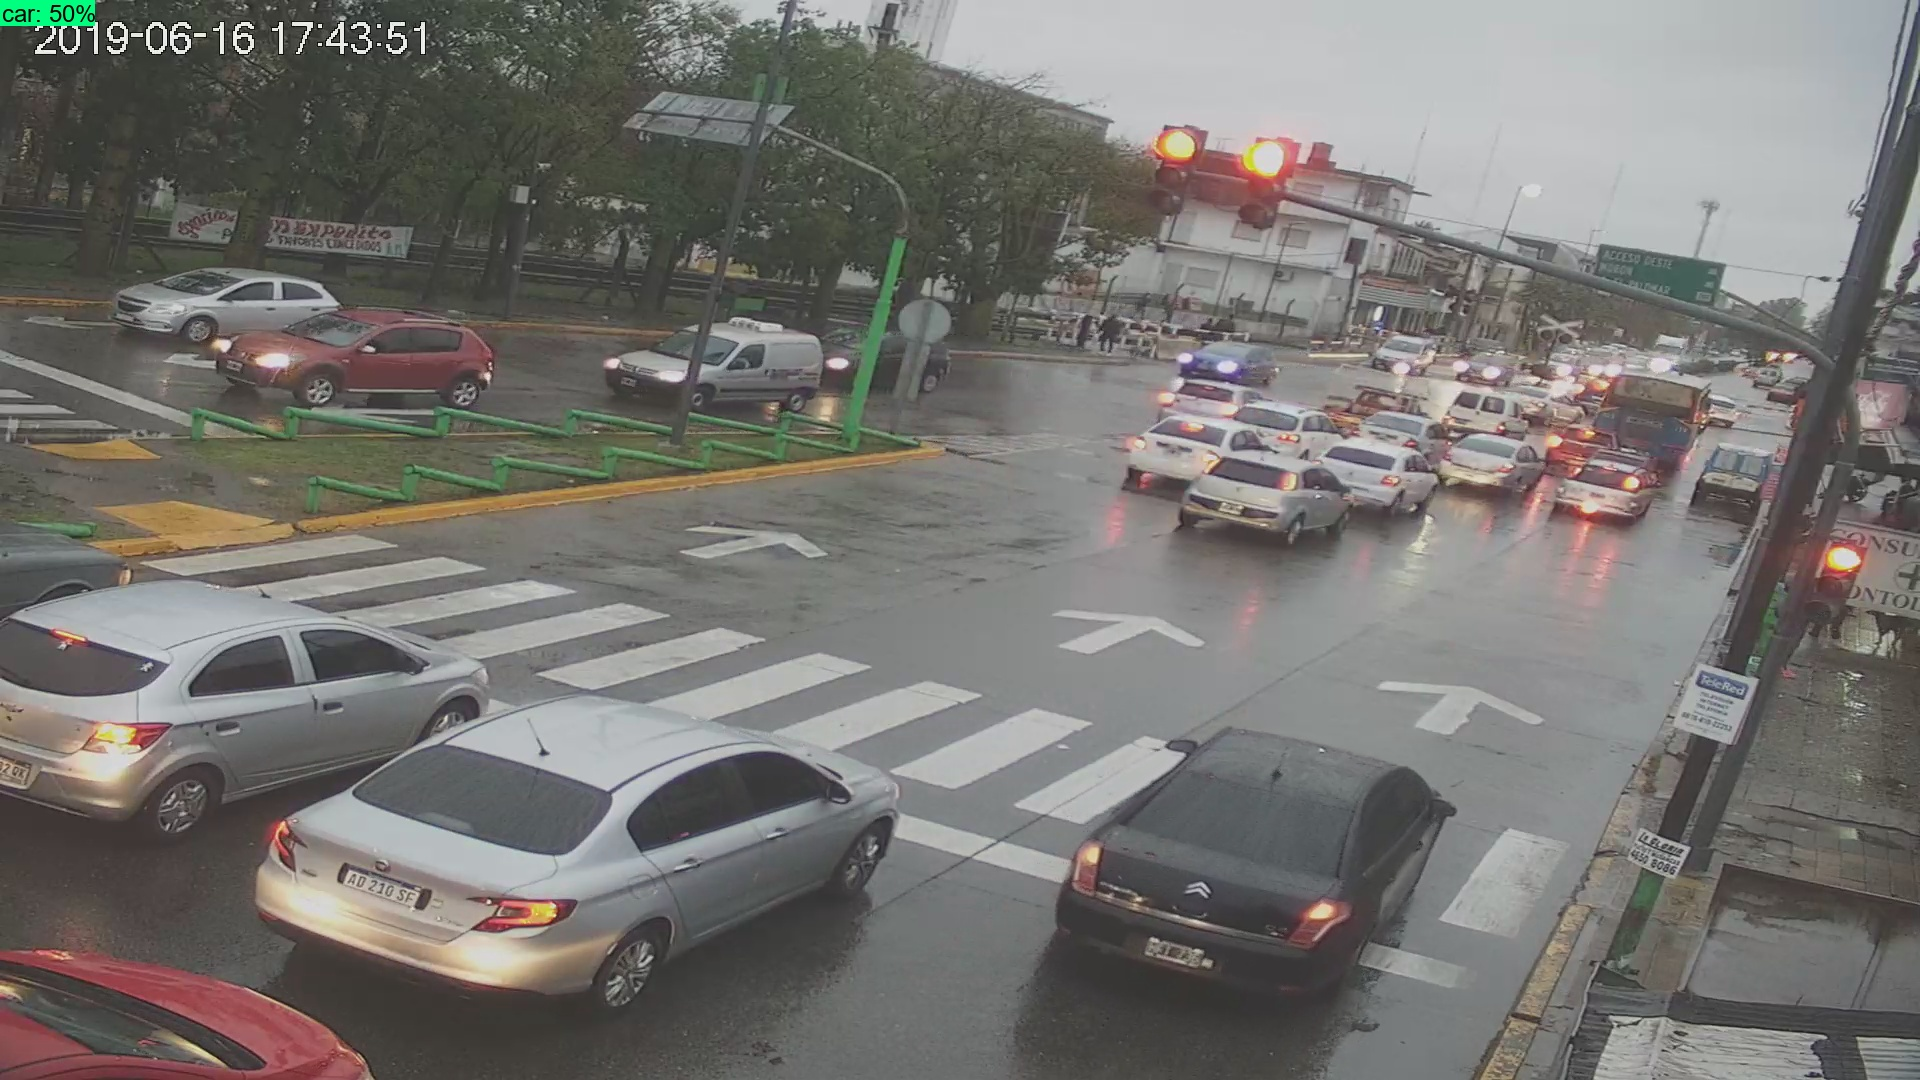car: (248, 684, 910, 1005), (1, 578, 501, 835), (1054, 727, 1460, 1015), (224, 305, 495, 418), (604, 309, 820, 429), (103, 265, 343, 349), (1178, 447, 1353, 547), (1125, 407, 1270, 491), (1325, 435, 1445, 518), (1445, 434, 1548, 502)
